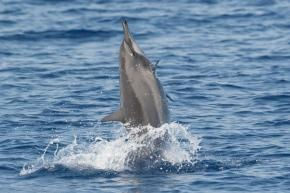fish: (105, 18, 179, 164)
